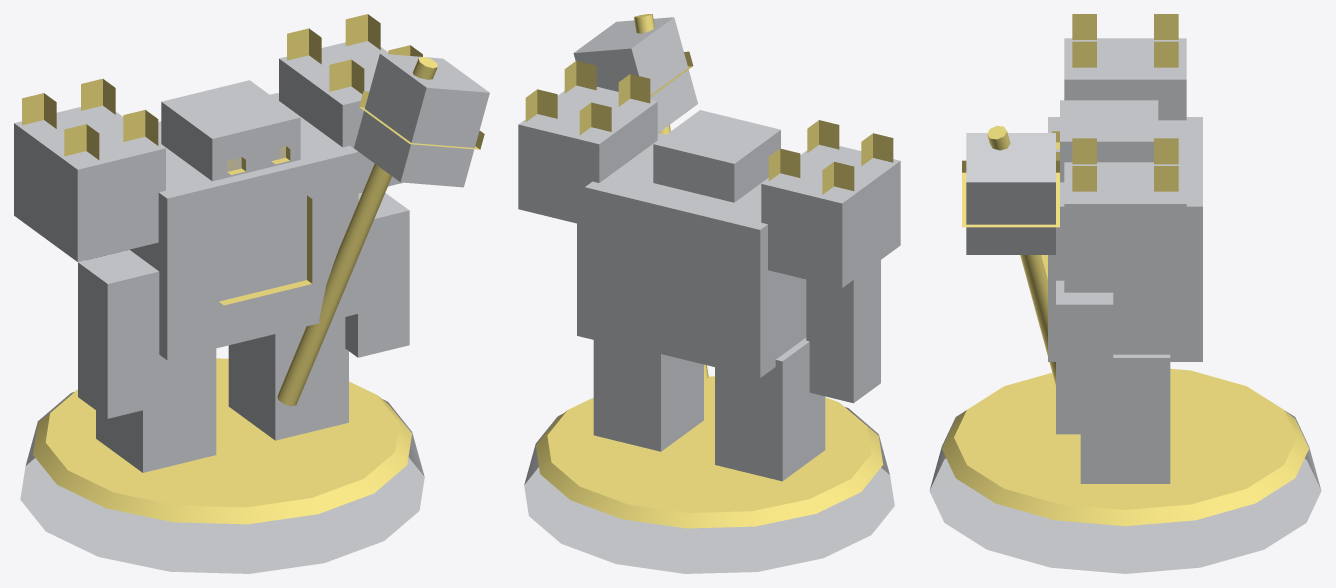
File: rook.glb
3 views of the same model, side by side, from view 1: azimuth 30°, elevation 25°; view 2: azimuth 150°, elevation 25°; view 3: azimuth 270°, elevation 25° (orthographic). The views are drawn at different scales.
Visible parts, largest first — view 1: rook; view 2: rook; view 3: rook.
Part boxes in pixels (x1,y1,x2,y2): rook: (14, 14, 489, 573); rook: (518, 14, 900, 573); rook: (929, 14, 1321, 573).
Size of the model in its own units: 0.9814 by 1.15 by 0.96.
